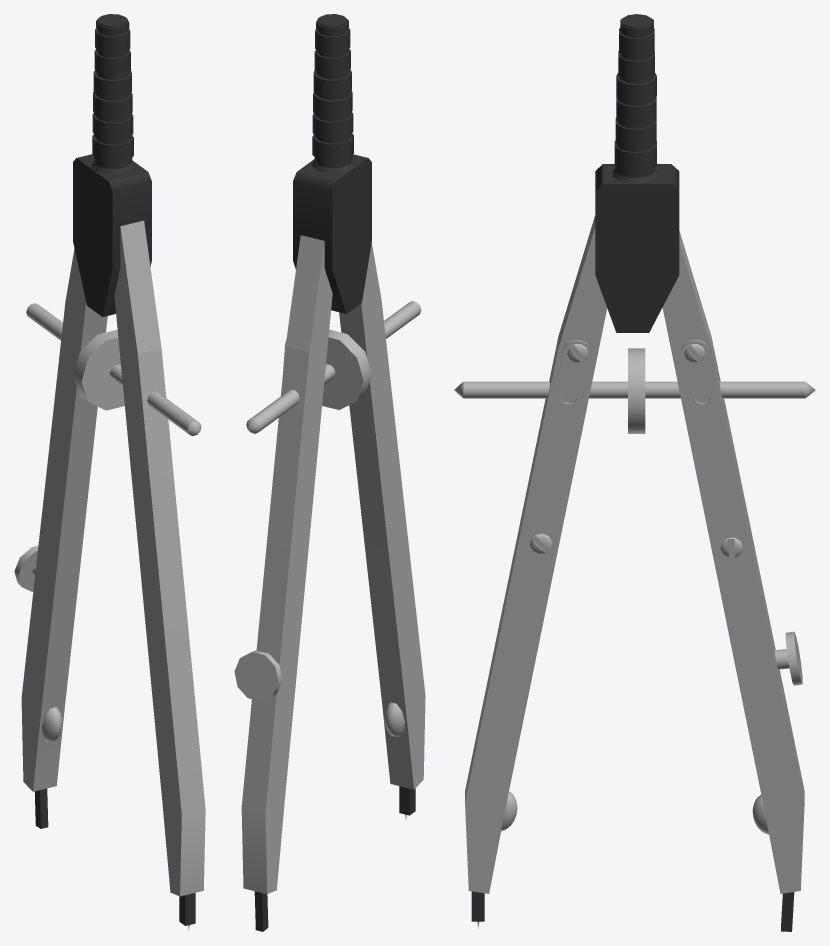
The model's file is Artist Compass.fbx.
3 renders of one model, left to right at view 1: azimuth 30°, elevation 25°; view 2: azimuth 150°, elevation 25°; view 3: azimuth 270°, elevation 25°, orthographic. The views are drawn at different scales.
Parts seen in each view (by area): view 1: polySurface27, polySurface26, polySurface24, polySurface28, polySurface38, polySurface41, polySurface43, polySurface34, polySurface39, polySurface35, polySurface31, polySurface33 (+4 smaller); view 2: polySurface26, polySurface27, polySurface24, polySurface28, polySurface45, polySurface38, polySurface41, polySurface43, polySurface34, polySurface35, polySurface39, polySurface31 (+4 smaller); view 3: polySurface27, polySurface26, polySurface24, polySurface38, polySurface28, polySurface41, polySurface25, polySurface20, polySurface43, polySurface34, polySurface39, polySurface35 (+2 smaller).
Part boxes in pixels (left/top/right/bottom): polySurface27: left=114, top=220, right=205, bottom=896; polySurface26: left=21, top=248, right=107, bottom=791; polySurface24: left=73, top=154, right=151, bottom=316; polySurface28: left=73, top=329, right=124, bottom=410; polySurface38: left=26, top=303, right=201, bottom=436; polySurface41: left=91, top=14, right=135, bottom=174; polySurface43: left=92, top=134, right=133, bottom=163; polySurface34: left=92, top=113, right=133, bottom=141; polySurface39: left=93, top=70, right=131, bottom=98; polySurface35: left=93, top=92, right=132, bottom=119; polySurface31: left=94, top=49, right=130, bottom=76; polySurface33: left=95, top=28, right=130, bottom=55; polySurface26: left=241, top=235, right=332, bottom=894; polySurface27: left=339, top=243, right=425, bottom=789; polySurface24: left=293, top=154, right=371, bottom=313; polySurface28: left=322, top=329, right=371, bottom=409; polySurface45: left=234, top=650, right=282, bottom=701; polySurface38: left=246, top=301, right=421, bottom=433; polySurface41: left=311, top=14, right=355, bottom=173; polySurface43: left=312, top=133, right=353, bottom=162; polySurface34: left=312, top=112, right=353, bottom=140; polySurface35: left=313, top=92, right=352, bottom=119; polySurface39: left=313, top=70, right=351, bottom=98; polySurface31: left=314, top=49, right=350, bottom=76; polySurface27: left=465, top=215, right=607, bottom=893; polySurface26: left=662, top=231, right=804, bottom=893; polySurface24: left=595, top=164, right=679, bottom=332; polySurface38: left=454, top=381, right=815, bottom=398; polySurface28: left=628, top=348, right=645, bottom=433; polySurface41: left=613, top=14, right=657, bottom=183; polySurface25: left=680, top=340, right=716, bottom=409; polySurface20: left=554, top=340, right=591, bottom=408; polySurface43: left=614, top=140, right=656, bottom=172; polySurface34: left=615, top=118, right=656, bottom=148; polySurface39: left=616, top=73, right=656, bottom=104; polySurface35: left=616, top=96, right=656, bottom=126.
Bounding box in the file's own units: 0.3466 × 4.03 × 1.45.
